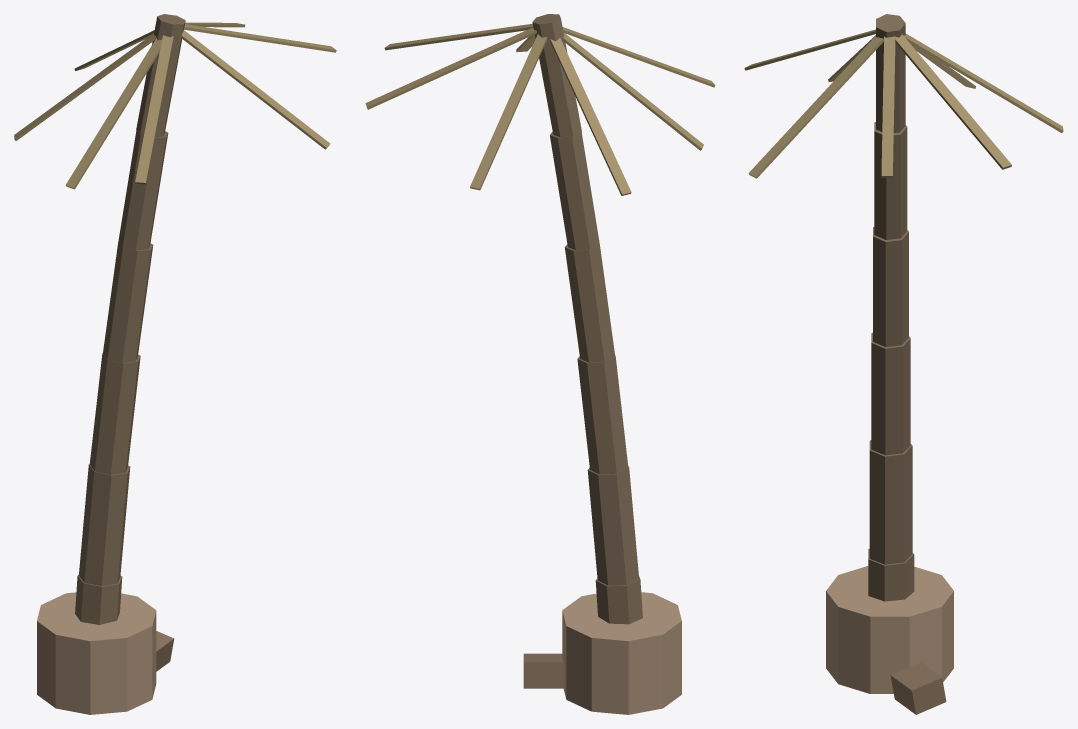
The model's file is props.glb.
The picture shows the model from 3 angles, left to right: view 1: azimuth 30°, elevation 25°; view 2: azimuth 150°, elevation 25°; view 3: azimuth 270°, elevation 25°; orthographic projection. The views are drawn at different scales.
Parts seen in each view (by area): view 1: Drum, Trunk1, Trunk2, Trunk3, Trunk4, Trunk5, Frond2, Trunk0, Frond3, Frond4, Frond1, Frond5 (+1 smaller); view 2: Drum, Trunk1, Trunk2, Trunk3, Trunk4, Trunk5, Frond1, Frond0, Trunk0, DrumChip, Frond6, Frond2 (+2 smaller); view 3: Drum, Trunk1, Trunk2, Trunk3, Trunk4, Trunk5, DrumChip, Frond4, Frond6, Trunk0, Frond5, Frond0 (+1 smaller).
Boxes of the visible parts, <box> form: Drum: <box>37,592,156,714</box>; Trunk1: <box>79,464,130,586</box>; Trunk2: <box>89,353,140,474</box>; Trunk3: <box>103,243,153,362</box>; Trunk4: <box>118,130,168,250</box>; Trunk5: <box>136,14,185,137</box>; Frond2: <box>65,37,161,189</box>; Trunk0: <box>75,575,122,624</box>; Frond3: <box>135,35,173,184</box>; Frond4: <box>180,30,330,149</box>; Frond1: <box>14,33,155,140</box>; Frond5: <box>184,24,336,52</box>; Drum: <box>562,592,681,714</box>; Trunk1: <box>587,466,639,585</box>; Trunk2: <box>577,355,628,474</box>; Trunk3: <box>564,244,615,362</box>; Trunk4: <box>550,132,599,250</box>; Trunk5: <box>532,14,581,137</box>; Frond1: <box>550,38,631,195</box>; Frond0: <box>470,34,547,190</box>; Trunk0: <box>595,576,642,624</box>; DrumChip: <box>523,653,564,688</box>; Frond6: <box>365,27,536,109</box>; Frond2: <box>562,33,703,150</box>; Drum: <box>826,566,953,693</box>; Trunk1: <box>869,440,912,564</box>; Trunk2: <box>871,332,910,455</box>; Trunk3: <box>873,227,908,346</box>; Trunk4: <box>874,122,907,239</box>; Trunk5: <box>876,14,905,132</box>; DrumChip: <box>890,662,946,714</box>; Frond4: <box>748,36,883,178</box>; Frond6: <box>895,34,1011,169</box>; Trunk0: <box>868,548,914,601</box>; Frond5: <box>881,36,895,177</box>; Frond0: <box>904,33,1063,132</box>.
Size of the model in its own units: 2.48 by 5.34 by 2.24.
